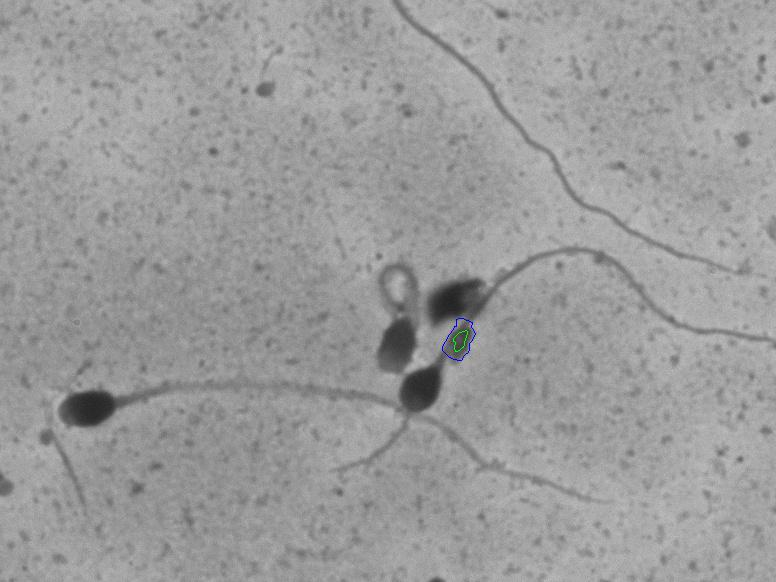Abnormal: (340, 232, 423, 378)
Normal: (20, 363, 637, 524)
